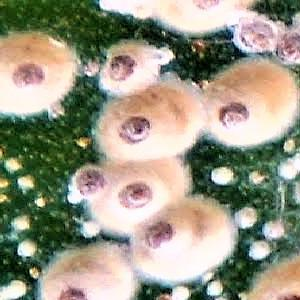Femea: (137, 208, 227, 272), (166, 151, 212, 250), (106, 104, 186, 158), (211, 77, 273, 141), (0, 43, 64, 102), (47, 252, 127, 299), (104, 48, 143, 92), (73, 167, 107, 199)
Linfa: (276, 154, 299, 186), (232, 205, 257, 234), (205, 163, 233, 186), (201, 274, 227, 297), (258, 218, 285, 239), (0, 277, 26, 298), (77, 219, 103, 240), (16, 239, 42, 259), (249, 238, 271, 261), (0, 156, 22, 177), (8, 215, 36, 231), (167, 283, 195, 299), (18, 174, 33, 193)
